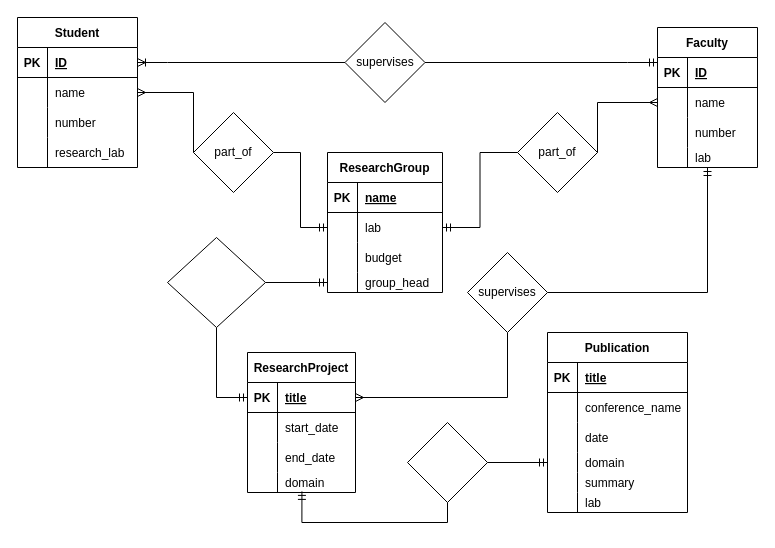
Image size: 775x548. Some labels were removed from this diagram. The centre of each missing label's shape, as x and y in pixels:
"publishes" belongs at (447,462).
"researches_on" belongs at (216,282).
